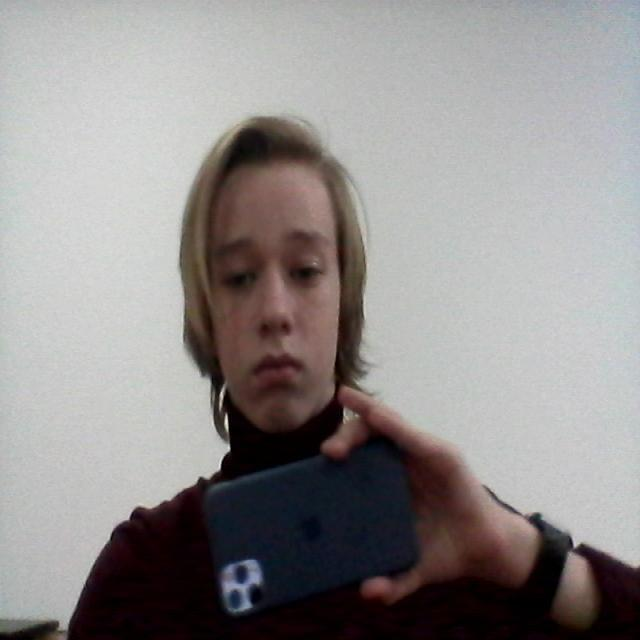Phone: (200, 441, 420, 618)
